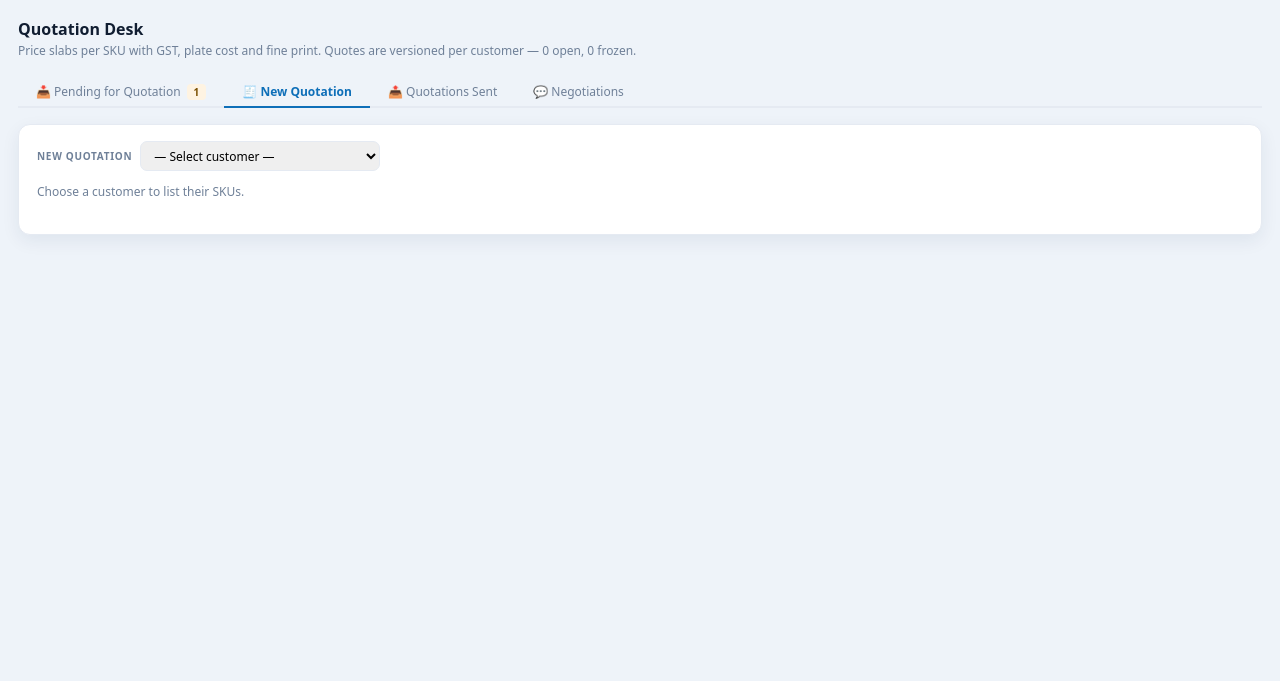
Quotation Desk — issuing › lists only the chosen customer's SKUs
This screenshot has width=1280, height=681.
Expected: the text "Quotation Desk" is shown, x1=18 y1=18 x2=143 y2=40
Select "Acme Dairy" in the dropdown named "Customer": (260, 156) x1=140 y1=141 x2=380 y2=171
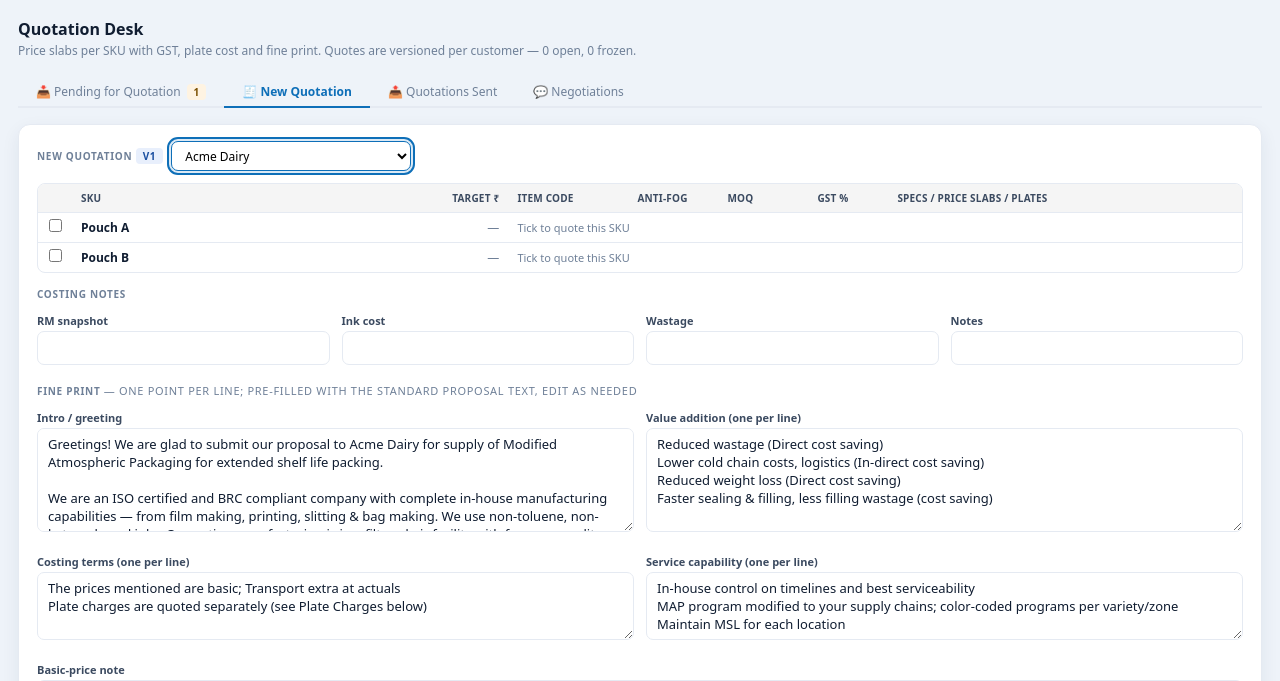
Expected: the text "Pouch A" is shown, x1=72 y1=212 x2=408 y2=242
Expected: the text "Pouch B" is shown, x1=72 y1=242 x2=408 y2=272
